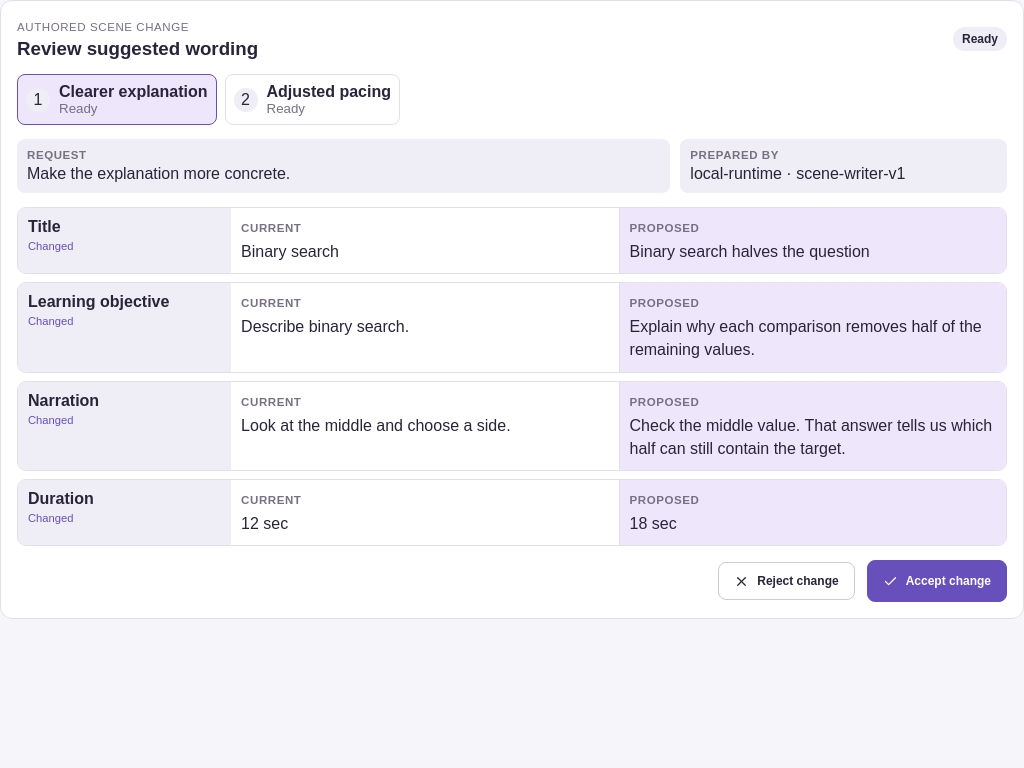
Test: SceneEditCandidateReview › compares authored fields and selects among candidates
This screenshot has width=1024, height=768.
Expected: the heading "Review suggested wording" is shown, top-left (17, 38), bottom-right (258, 60)
Expected: the text "Binary search halves the question" is shown, top-left (630, 243), bottom-right (870, 260)
Click the button with aria-label "Candidate 2: pacing".
click(312, 100)  # box top-left (224, 74), bottom-right (400, 125)
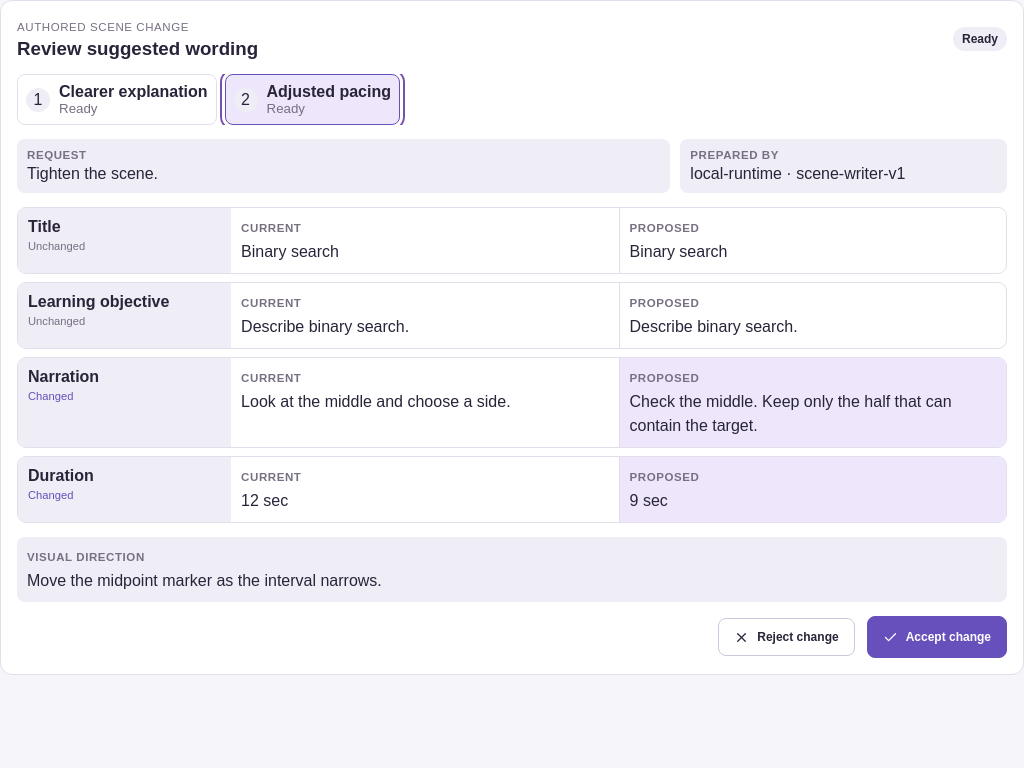
Expected: the text "Tighten the scene." is shown, top-left (27, 165), bottom-right (158, 182)
Expected: the text "Move the midpoint marker as the interval narrows." is shown, top-left (27, 572), bottom-right (382, 589)
Expected: the text "9 sec" is shown, top-left (630, 492), bottom-right (668, 509)
